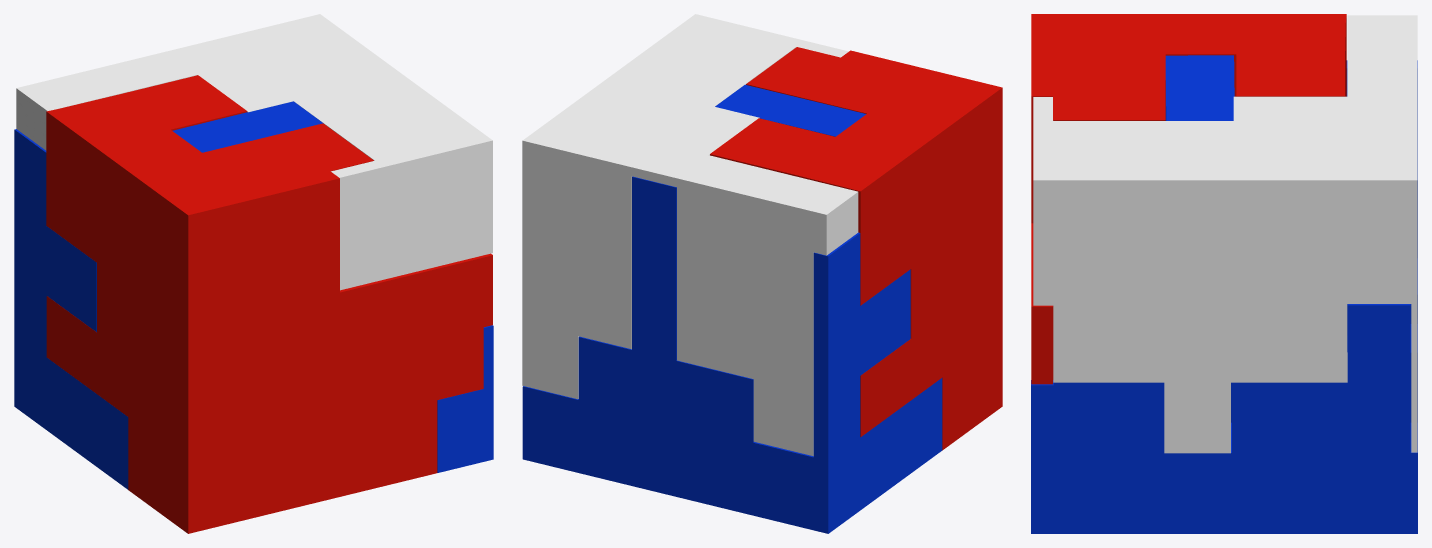
File: Cube tres.fbx
3 renders of one model, left to right at view 1: azimuth 30°, elevation 25°; view 2: azimuth 150°, elevation 25°; view 3: azimuth 270°, elevation 25°, orthographic. The views are drawn at different scales.
Parts seen in each view (by area): view 1: Cube, Cube.001, Cube.002; view 2: Cube.001, Cube.002, Cube; view 3: Cube.001, Cube.002, Cube.
Part boxes in pixels (x1=…): Cube: x1=46, y1=75, x2=492, y2=533; Cube.001: x1=16, y1=14, x2=492, y2=290; Cube.002: x1=14, y1=101, x2=493, y2=489; Cube.001: x1=522, y1=14, x2=858, y2=456; Cube.002: x1=522, y1=85, x2=942, y2=533; Cube: x1=710, y1=47, x2=1002, y2=450; Cube.001: x1=1033, y1=15, x2=1417, y2=453; Cube.002: x1=1031, y1=55, x2=1417, y2=533; Cube: x1=1031, y1=14, x2=1346, y2=384.
Bounding box in the file's own units: 749 × 746 × 738.
